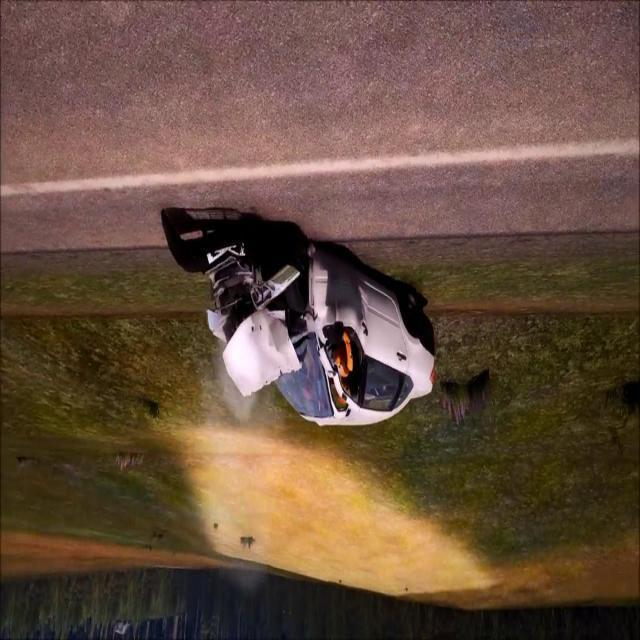severe: (160, 208, 438, 436)
